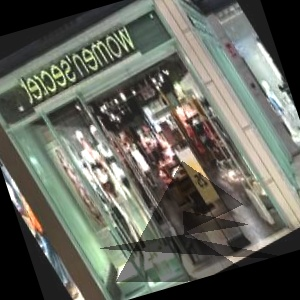women_secret: (113, 1, 152, 26)
